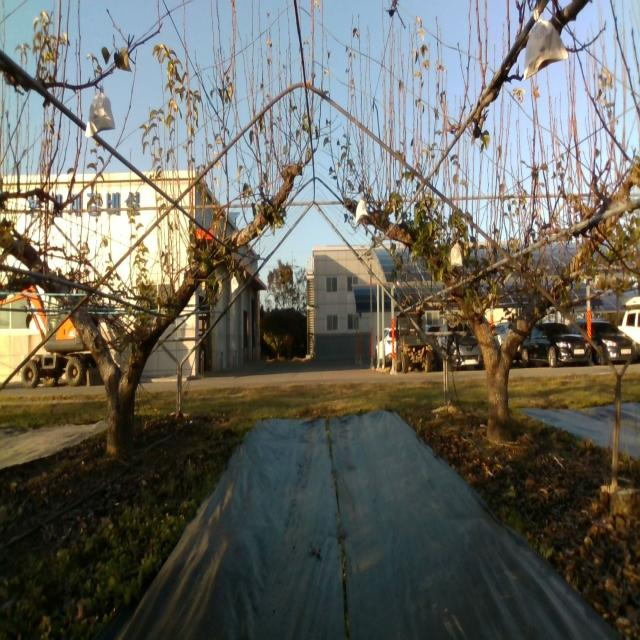pearbags: (523, 9, 569, 81), (85, 82, 116, 137), (354, 199, 370, 226), (450, 240, 464, 269)
